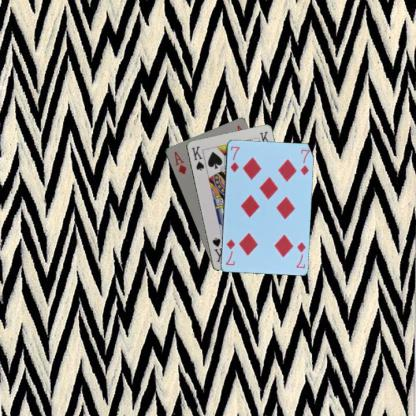7d: (228, 144, 241, 173), (294, 239, 306, 269)
Ad: (171, 148, 187, 176)
Ks: (189, 143, 205, 172)
